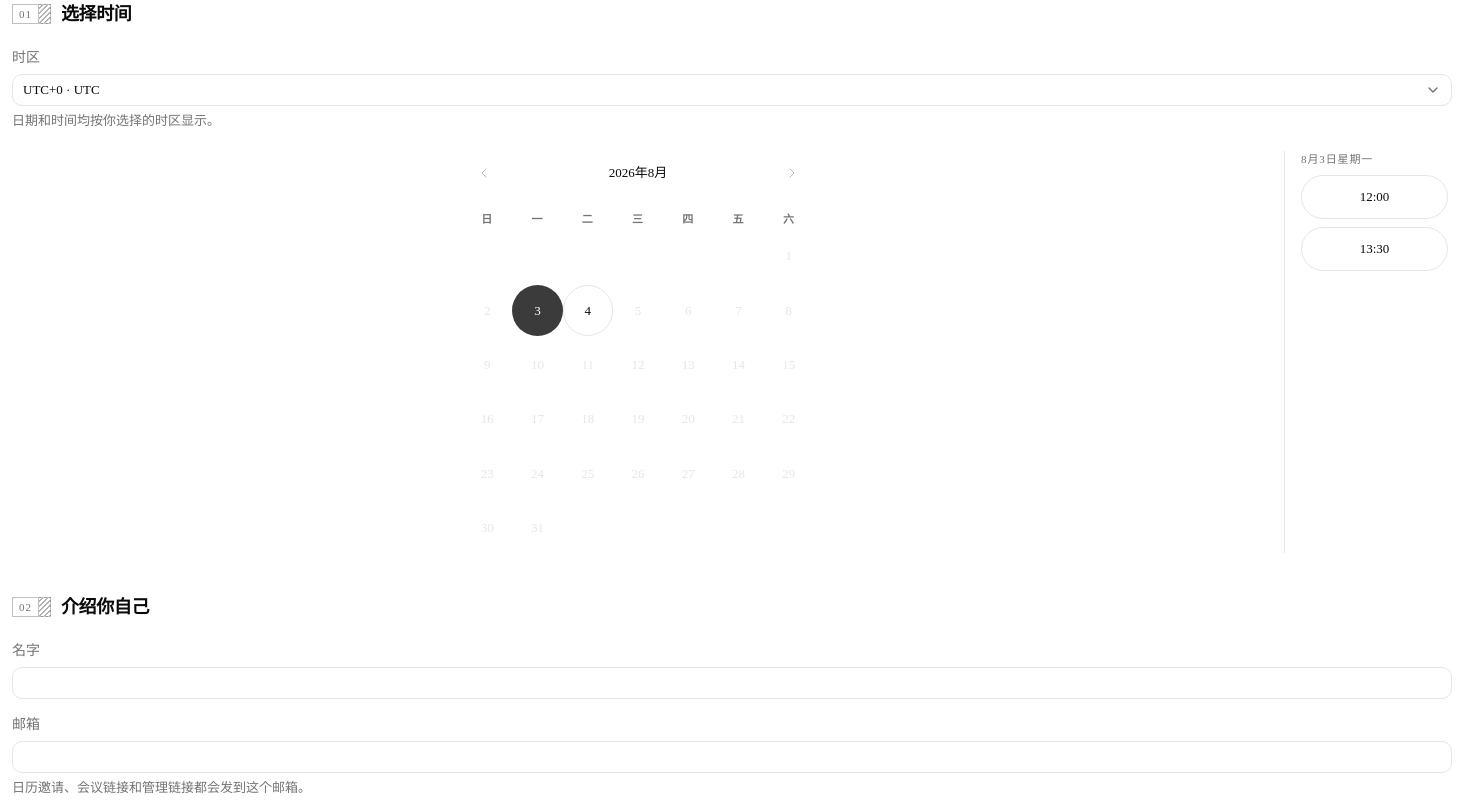
it: BookingFlow › shows a countdown after the hold that reflects server refreshes
Click the button "12:00" at [1374, 197], box [1301,175,1448,219]
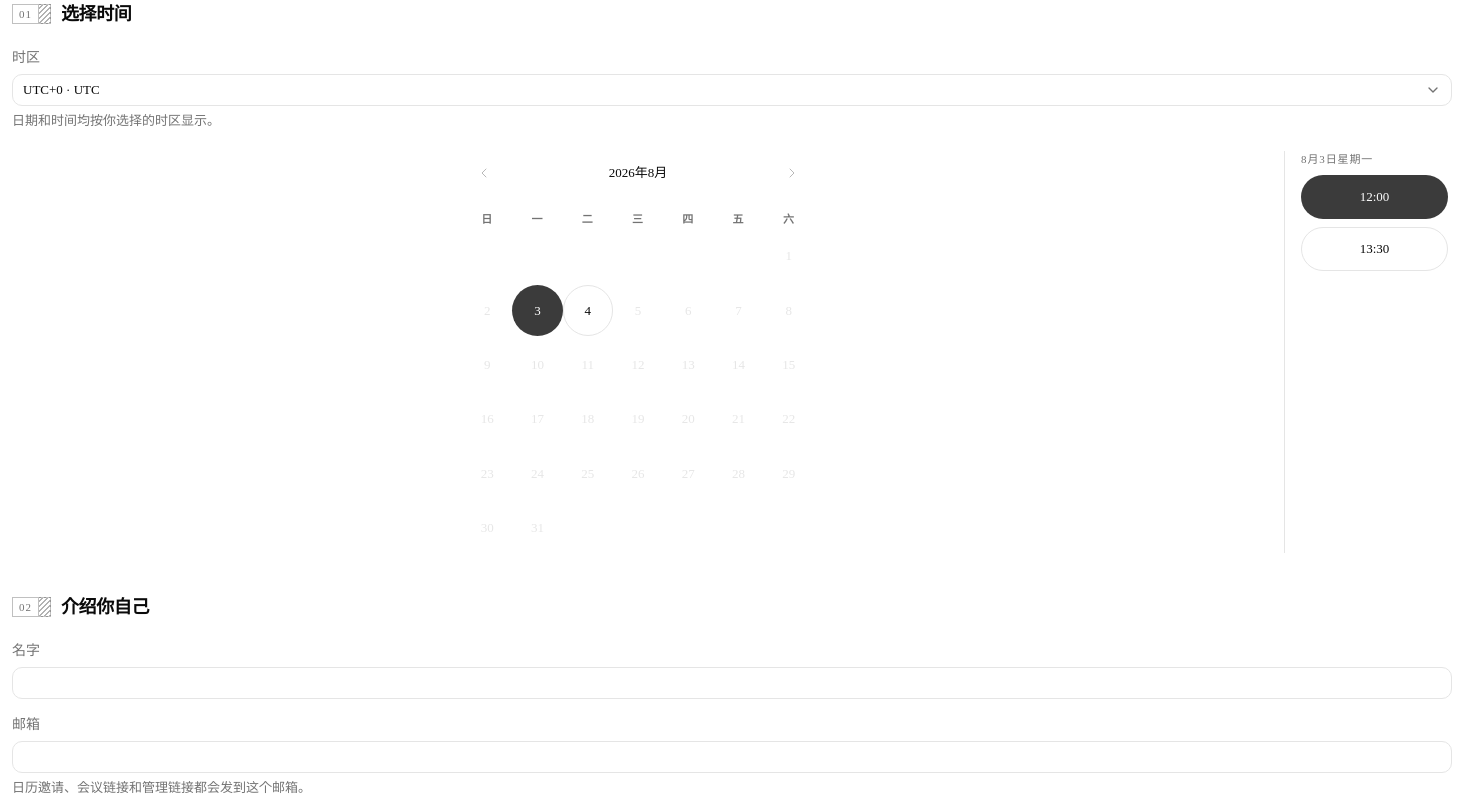
Type "Ada Lovelace" into the field labelled "名字" at [732, 683], box [12,667,1452,699]
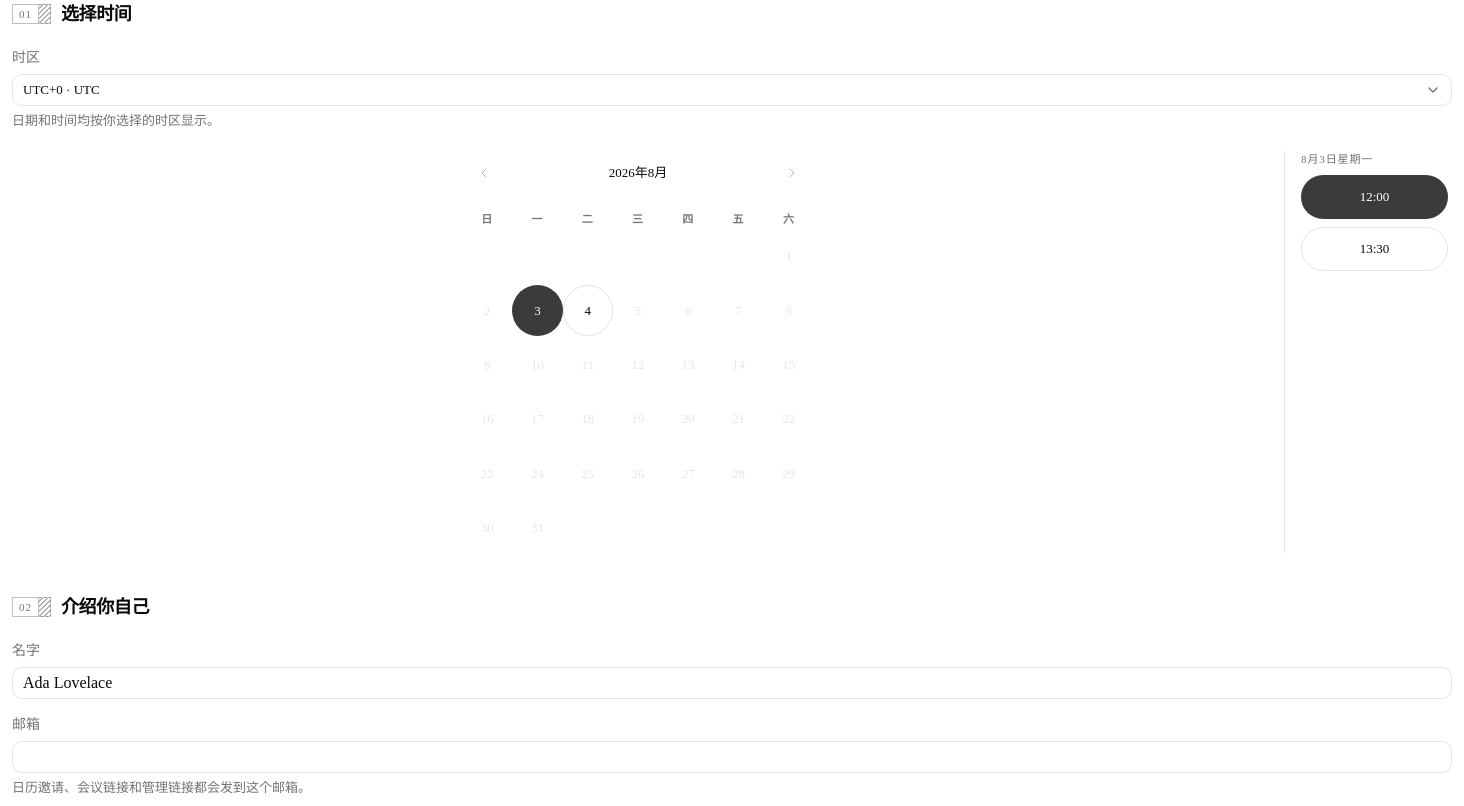
Type "ada@example.com" into the field labelled "邮箱" at [732, 757], box [12,741,1452,773]
(page scrolled)
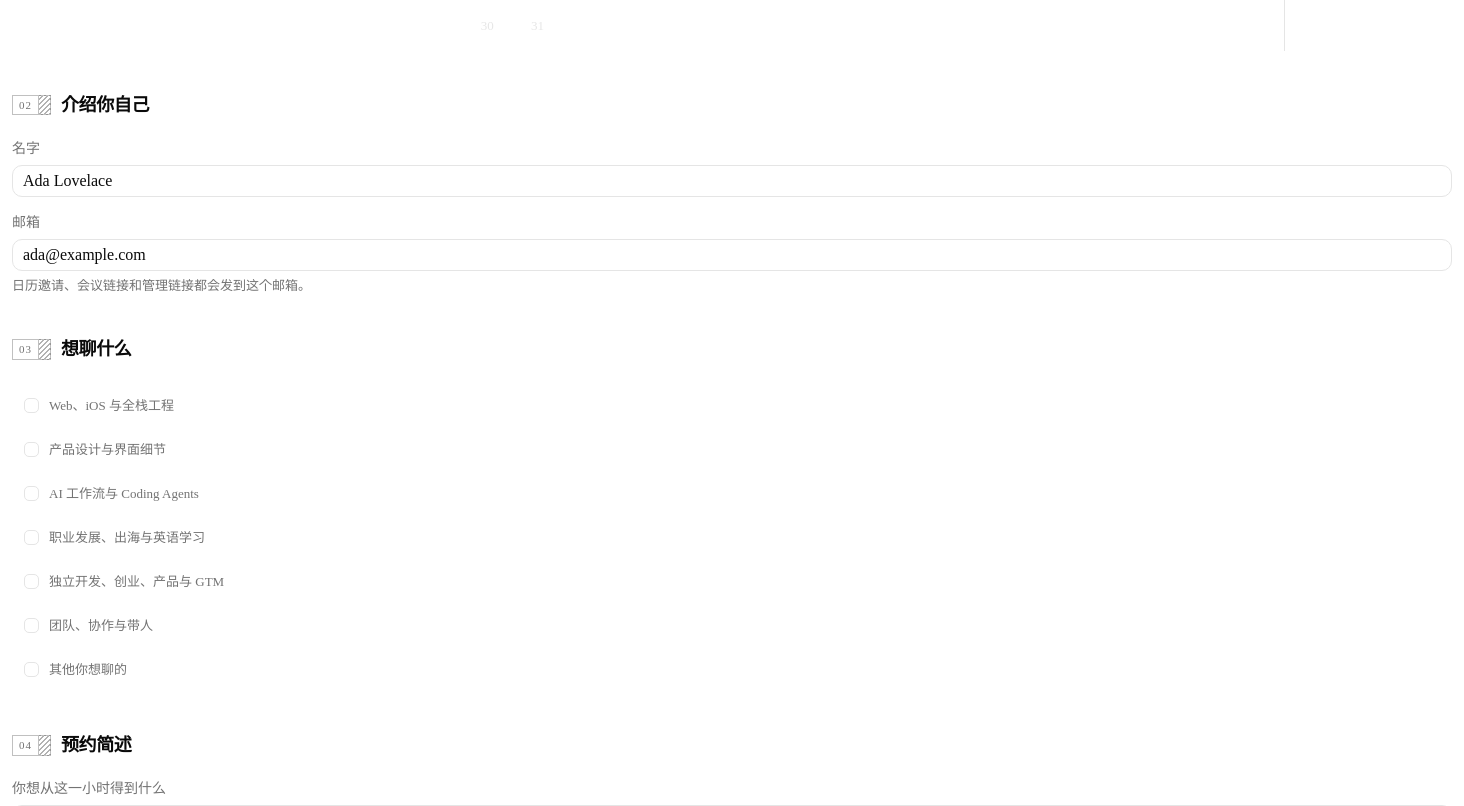
Click the checkbox labelled "Web、iOS 与全栈工程" at [99, 405], box [24,398,174,413]
(page scrolled)
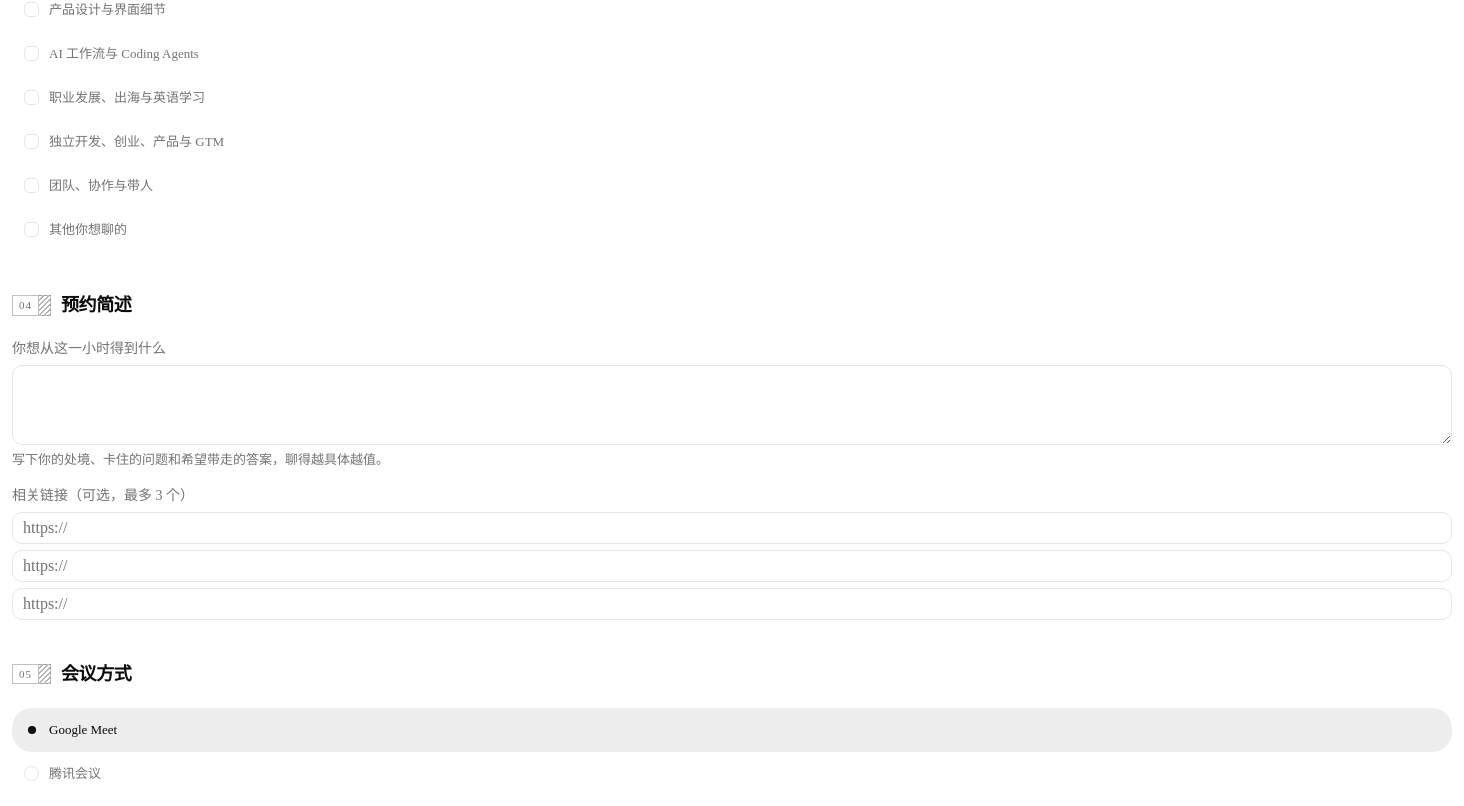
Type "I want to talk through my product roadmap." into the text box labelled "你想从这一小时得到什么" at [732, 405], box [12,365,1452,445]
(page scrolled)
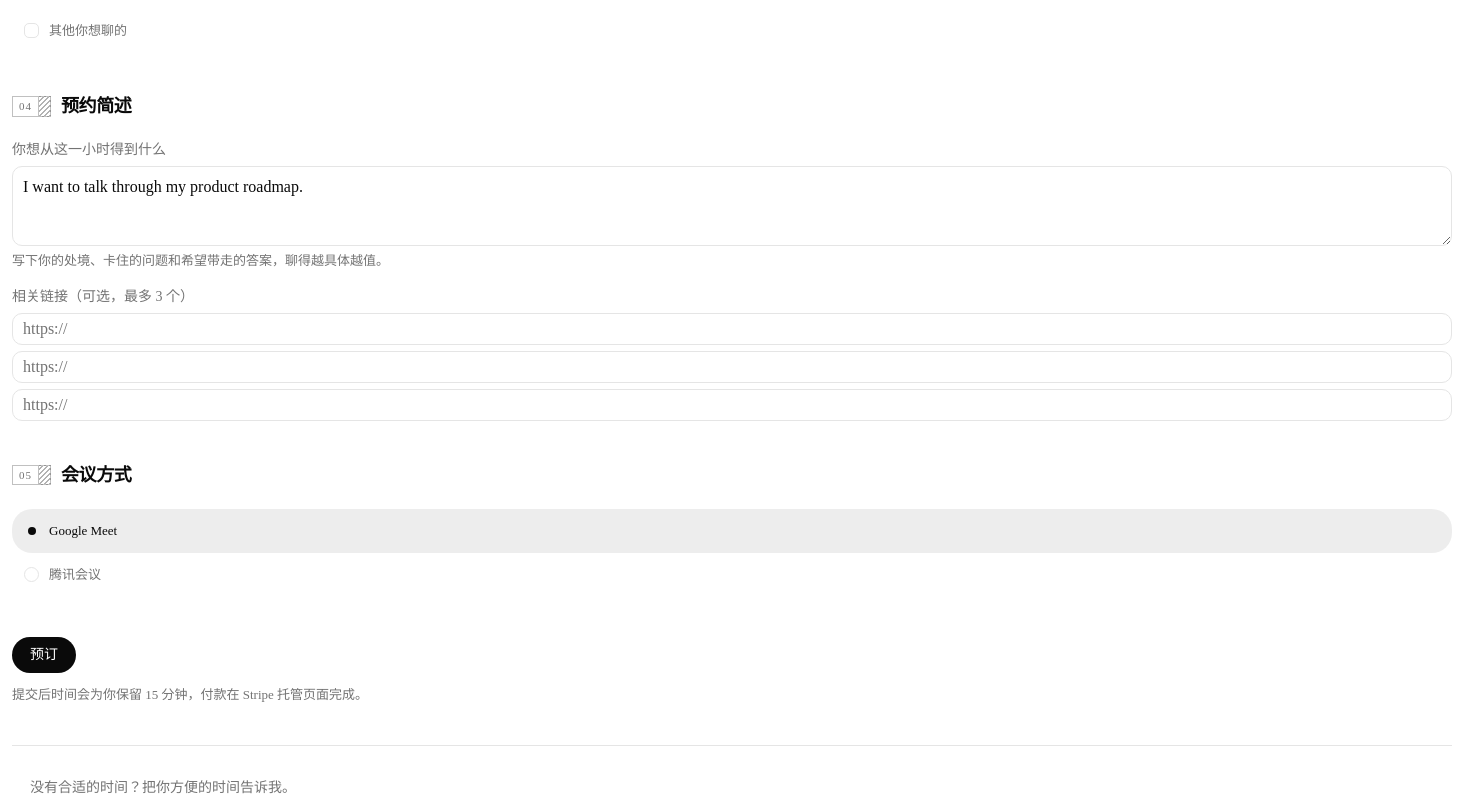
Click the button named "Hold this time" at [44, 655], box [12,637,76,673]
(page scrolled)
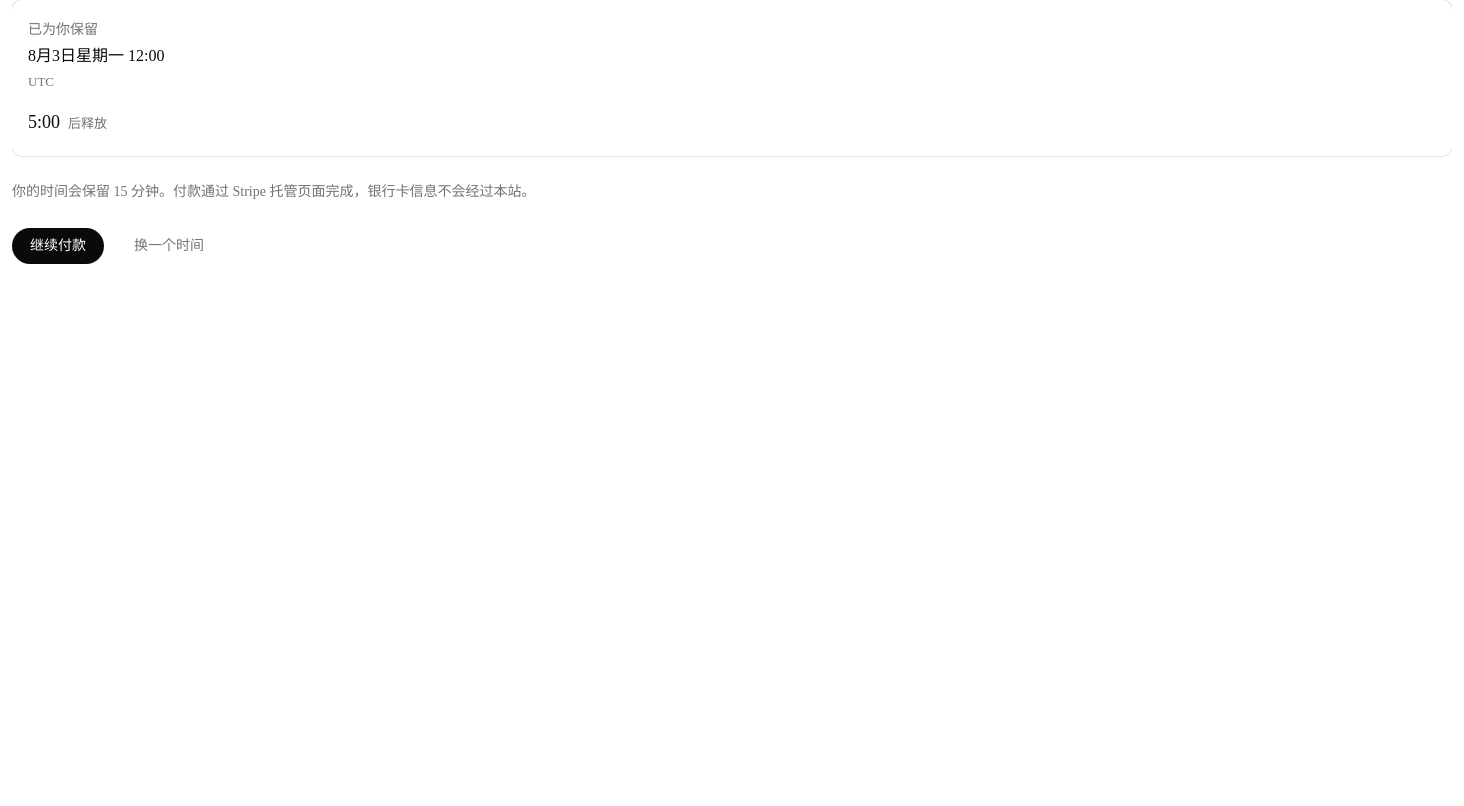
Now the text "5:00" is shown, box [28,108,60,136]
